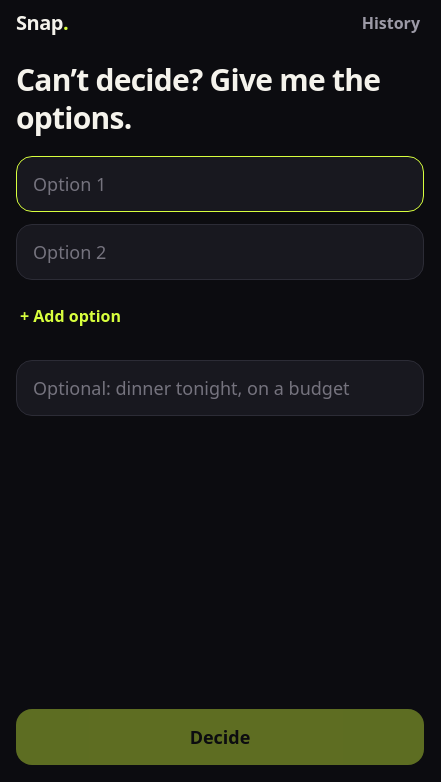
medium decision › goes to the gate if the Worker refuses the question
Type "a" into the field labelled "Option 1" at (220, 184), box [16,156,424,212]
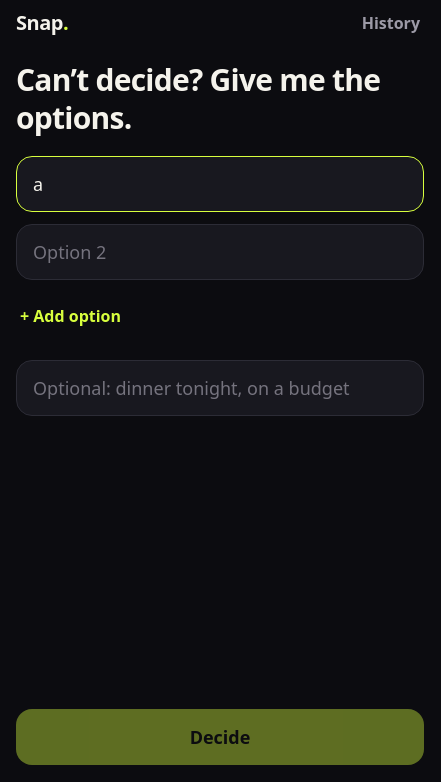
Type "b" into the field labelled "Option 2" at (220, 252), box [16,224,424,280]
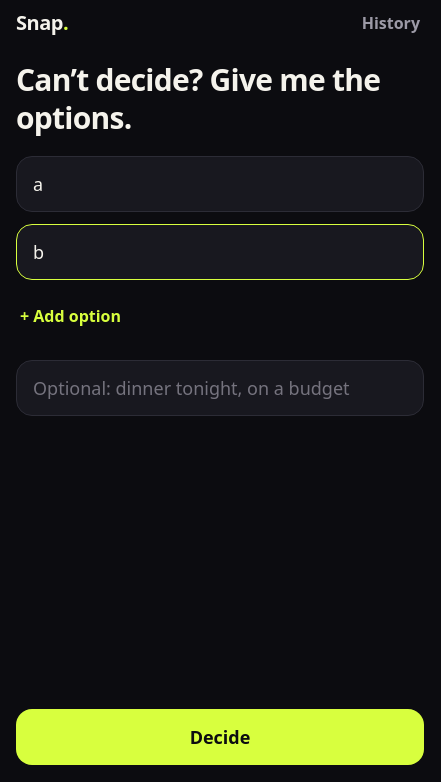
Click the button "Decide" at (220, 737), box [16,709,424,765]
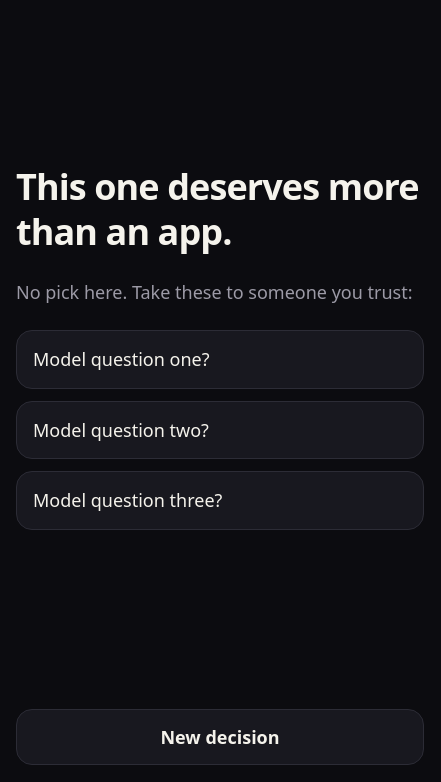
Expected: the heading "This one deserves more than an app." is shown, [16,164,424,254]
